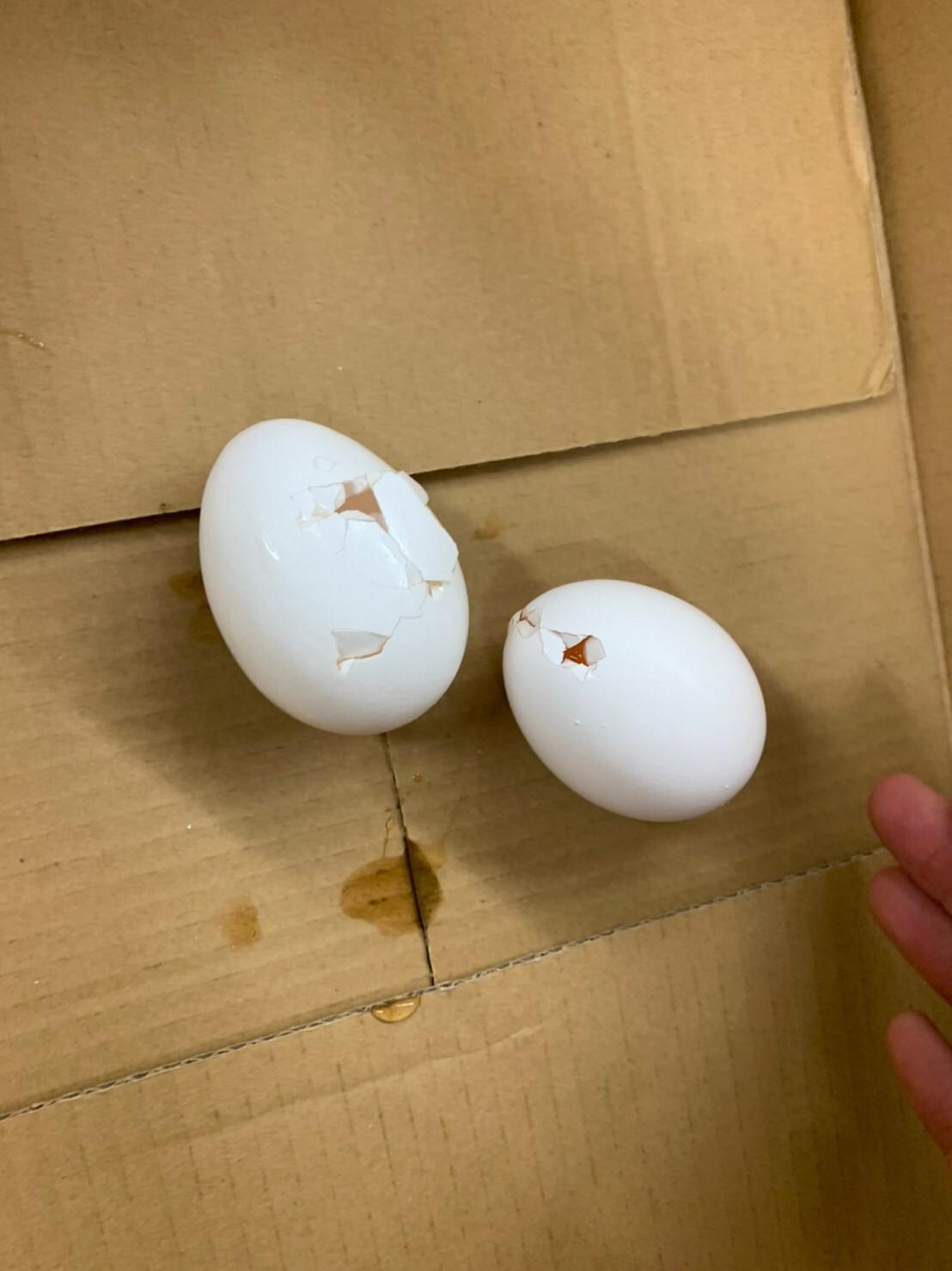egg: (189, 406, 472, 732), (498, 580, 777, 833)
